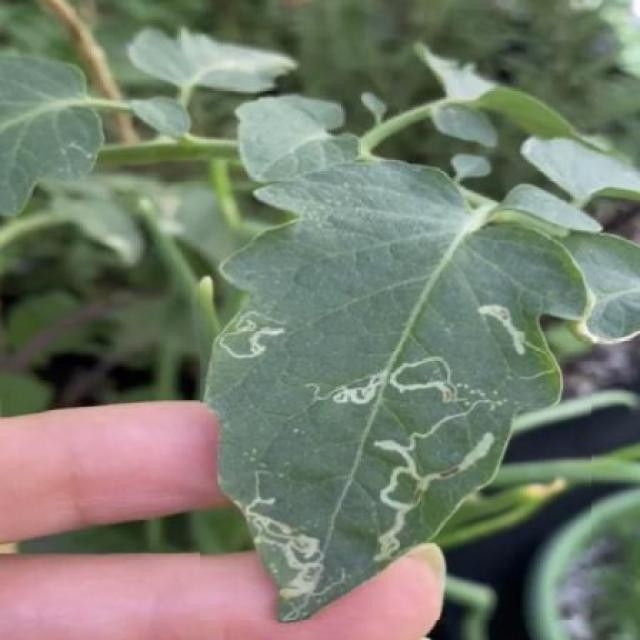Leaf Miner: (200, 155, 591, 621)
